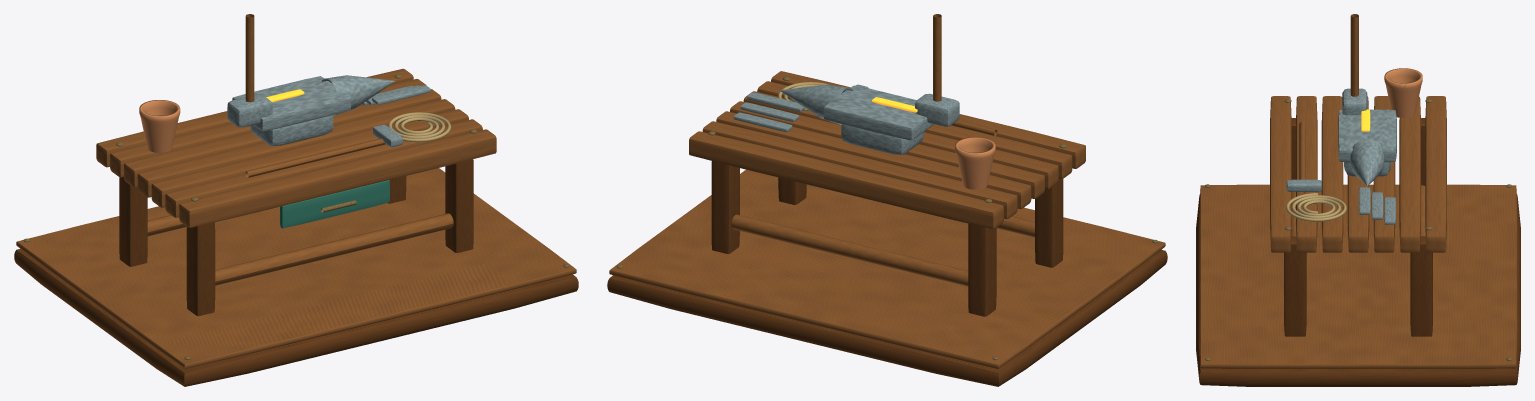
The model's file is crafting.glb.
3 views of the same model, side by side, from view 1: azimuth 30°, elevation 25°; view 2: azimuth 150°, elevation 25°; view 3: azimuth 270°, elevation 25° (orthographic). The views are drawn at different scales.
Parts seen in each view (by area): view 1: surface (×2), Carved wooden base, Forged anvil body, Hollow terracotta pots, Coiled binding rope, Hammer head, Hammer handle; view 2: surface, Carved wooden base, Forged anvil body, Hollow terracotta pots, Hammer head, Hammer handle; view 3: surface, Carved wooden base, Forged anvil body, Hollow terracotta pots, Coiled binding rope, Hammer handle, Hammer head.
Part boxes in pixels (left/top/right/bottom): surface (×2): left=16, top=68, right=576, bottom=368; Carved wooden base: left=14, top=159, right=578, bottom=386; Forged anvil body: left=232, top=75, right=430, bottom=147; Hollow terracotta pots: left=139, top=100, right=180, bottom=152; Coiled binding rope: left=388, top=112, right=451, bottom=142; Hammer head: left=227, top=94, right=272, bottom=127; Hammer handle: left=245, top=14, right=254, bottom=102; surface: left=609, top=71, right=1165, bottom=368; Carved wooden base: left=607, top=161, right=1167, bottom=386; Forged anvil body: left=733, top=84, right=933, bottom=154; Hollow terracotta pots: left=955, top=137, right=995, bottom=189; Hammer head: left=915, top=93, right=959, bottom=126; Hammer handle: left=933, top=14, right=941, bottom=101; surface: left=1199, top=96, right=1517, bottom=368; Carved wooden base: left=1196, top=118, right=1520, bottom=386; Forged anvil body: left=1286, top=109, right=1396, bottom=224; Hollow terracotta pots: left=1384, top=68, right=1422, bottom=117; Coiled binding rope: left=1286, top=193, right=1346, bottom=221; Hammer handle: left=1350, top=14, right=1358, bottom=96; Hammer head: left=1342, top=88, right=1367, bottom=115.
Bounding box in the file's own units: 4.8 × 3.2 × 3.6.
8 materials, 6 textured.
